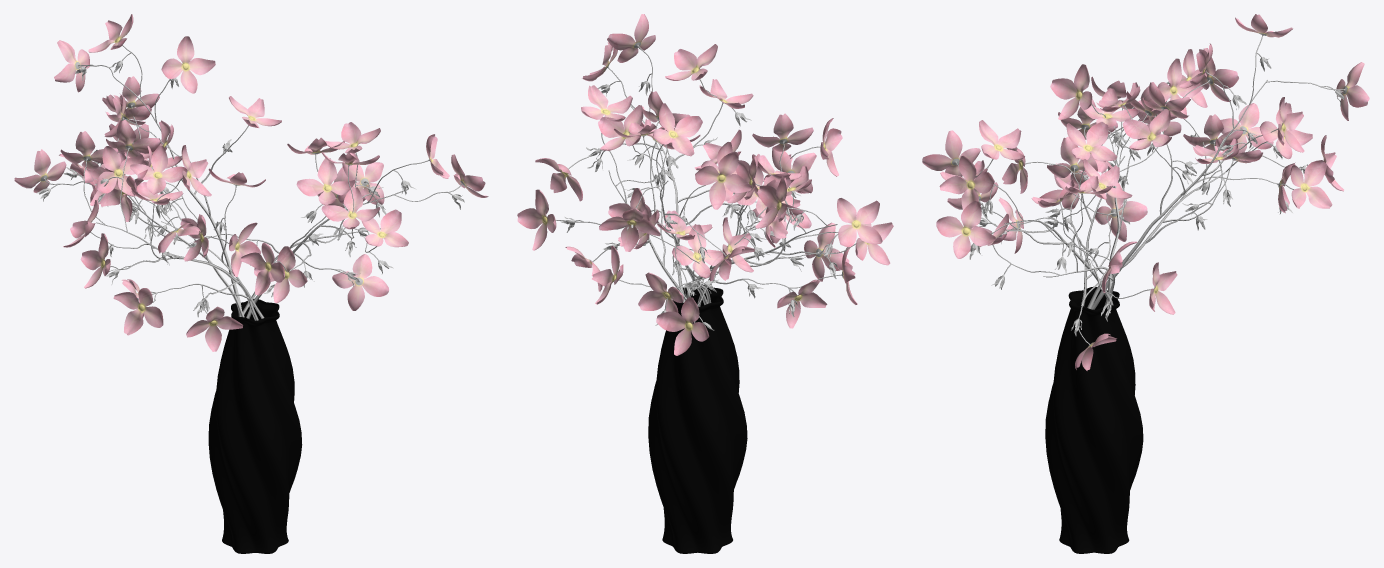
Rendered from flower.gltf.
3 renders of one model, left to right at view 1: azimuth 30°, elevation 25°; view 2: azimuth 150°, elevation 25°; view 3: azimuth 270°, elevation 25°, orthographic. The views are drawn at different scales.
Parts seen in each view (by area): view 1: GrowFX01, Plane01; view 2: GrowFX01, Plane01; view 3: GrowFX01, Plane01.
Boxes of the visible parts, left/top/right/bottom form: GrowFX01: left=14, top=14, right=488, bottom=351; Plane01: left=208, top=298, right=302, bottom=553; GrowFX01: left=517, top=14, right=893, bottom=355; Plane01: left=648, top=284, right=747, bottom=553; GrowFX01: left=922, top=14, right=1369, bottom=370; Plane01: left=1045, top=286, right=1143, bottom=553.
Bounding box in the file's own units: 2.93 × 3.84 × 3.09.
